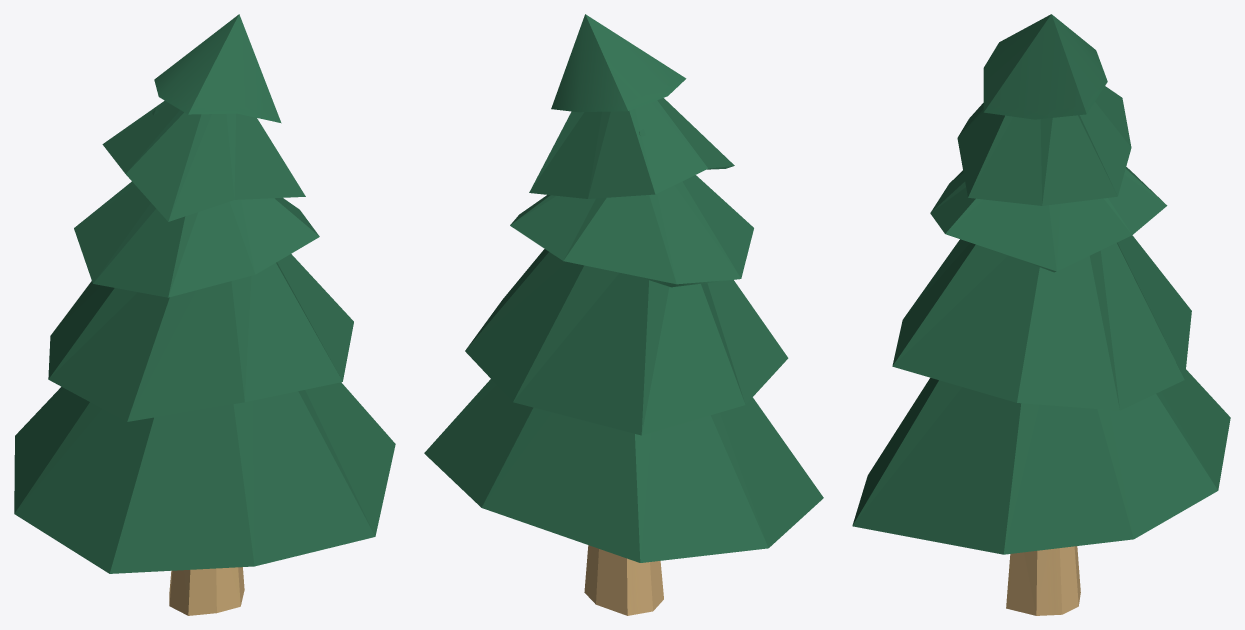
Rendered from sapin2fonce.FBX.
3 renders of one model, left to right at view 1: azimuth 30°, elevation 25°; view 2: azimuth 150°, elevation 25°; view 3: azimuth 270°, elevation 25°, orthographic. The views are drawn at different scales.
Visible parts, largest first — view 1: Pyramid001; view 2: Pyramid001; view 3: Pyramid001.
Boxes of the visible parts, bbox=[...] form: Pyramid001: bbox=[14, 14, 395, 615]; Pyramid001: bbox=[424, 14, 823, 615]; Pyramid001: bbox=[852, 14, 1230, 615].
Bounding box in the file's own units: 78.9 × 129 × 72.47.
